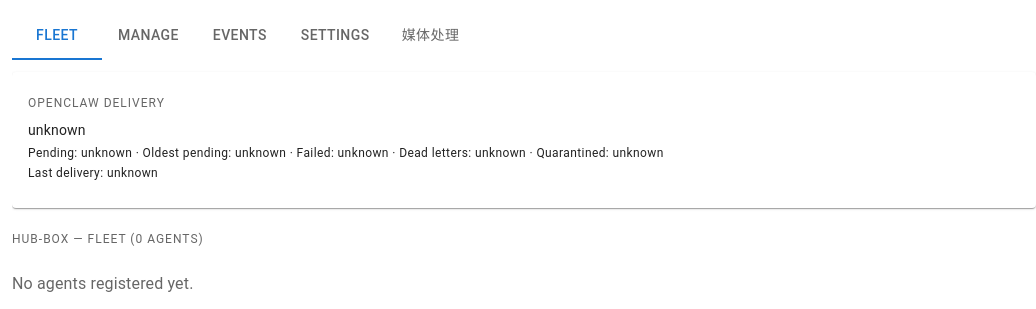
it: R14 Hub event request evidence › shows loading rather than No events before the first response
Check: the text "hub-box — fleet (0 agents)" is shown, box x1=12 y1=232 x2=204 y2=246
Click the tab "Events" at (240, 36), box x1=195 y1=12 x2=285 y2=60
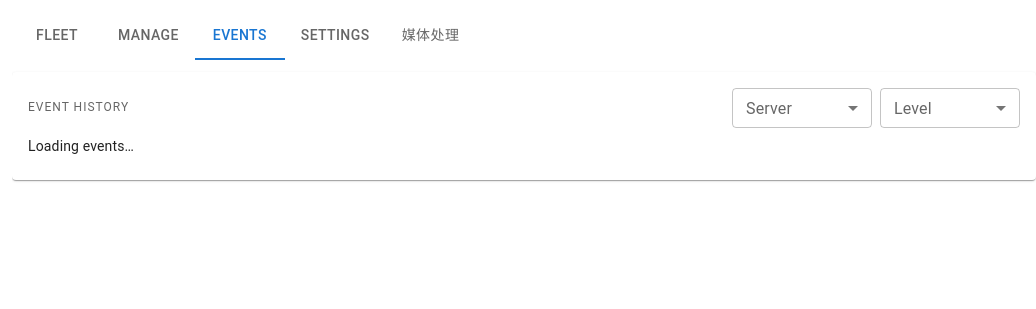
Check: the text "Loading events…" is shown, box x1=28 y1=138 x2=134 y2=154
